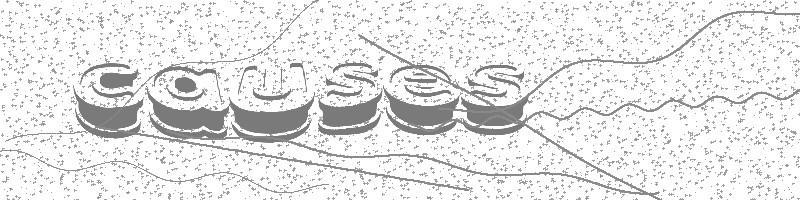a: (148, 64, 229, 139)
c: (73, 61, 145, 140)
e: (384, 63, 460, 137)
s: (461, 63, 529, 136), (318, 62, 383, 136)
u: (229, 64, 315, 143)
